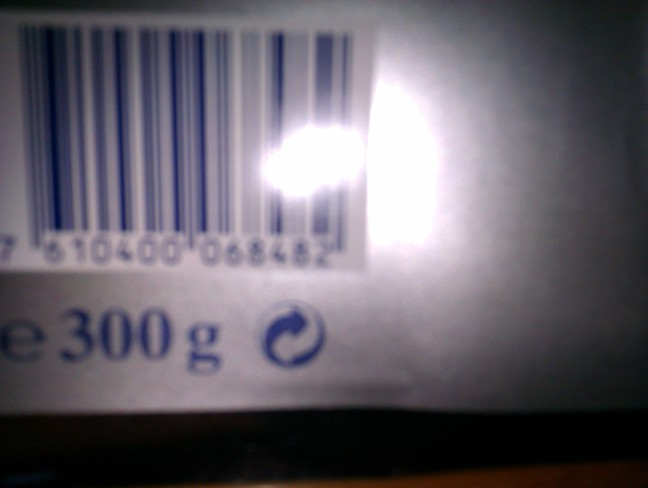detection: (4, 12, 377, 270)
